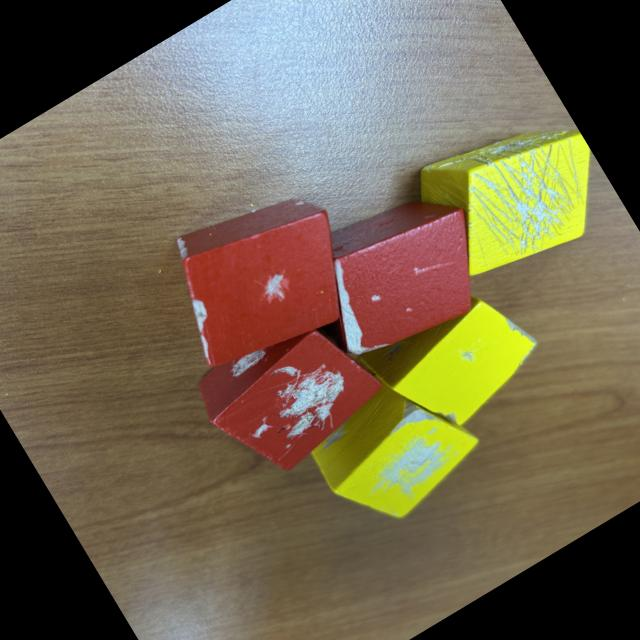broken: (142, 164, 379, 391), (404, 89, 627, 300), (288, 168, 511, 378), (290, 343, 496, 544), (186, 297, 396, 494), (354, 271, 556, 455)
